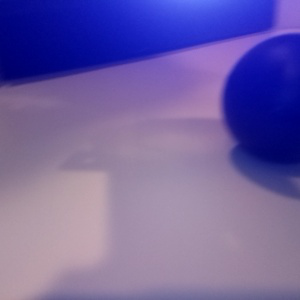dead_ball: (222, 34, 300, 168)
